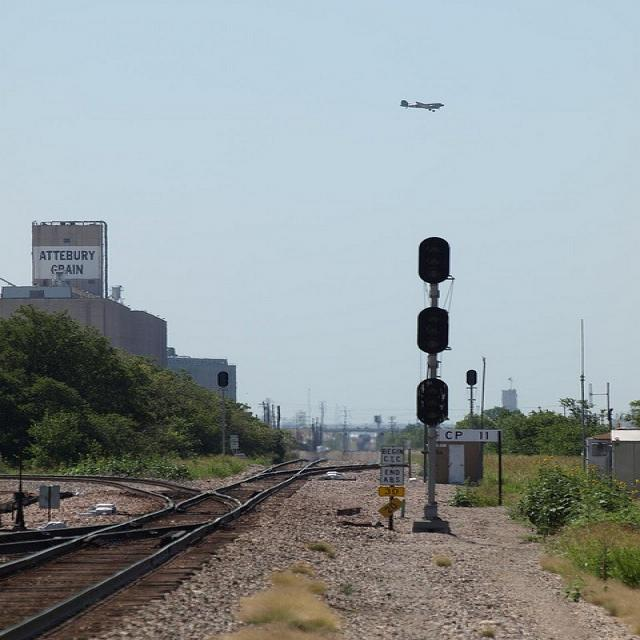pole: (422, 283, 442, 517)
